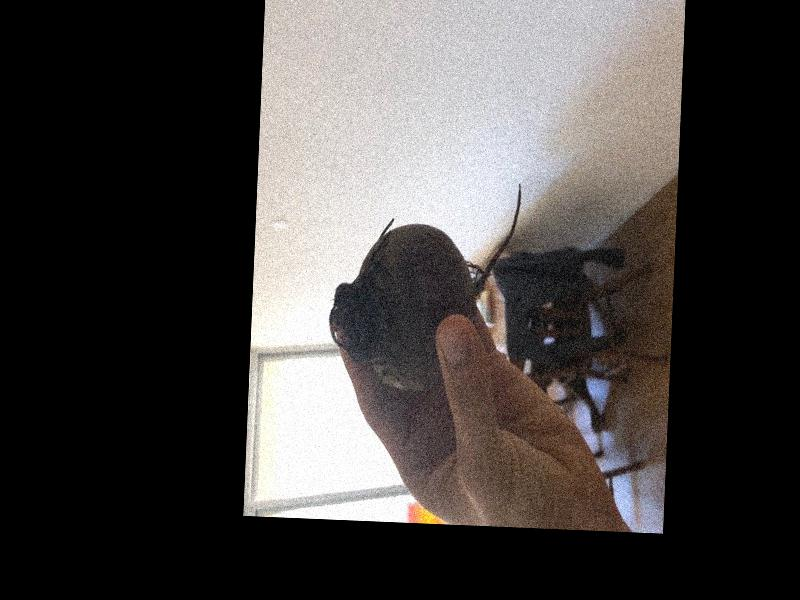Beet: (326, 176, 521, 394)
